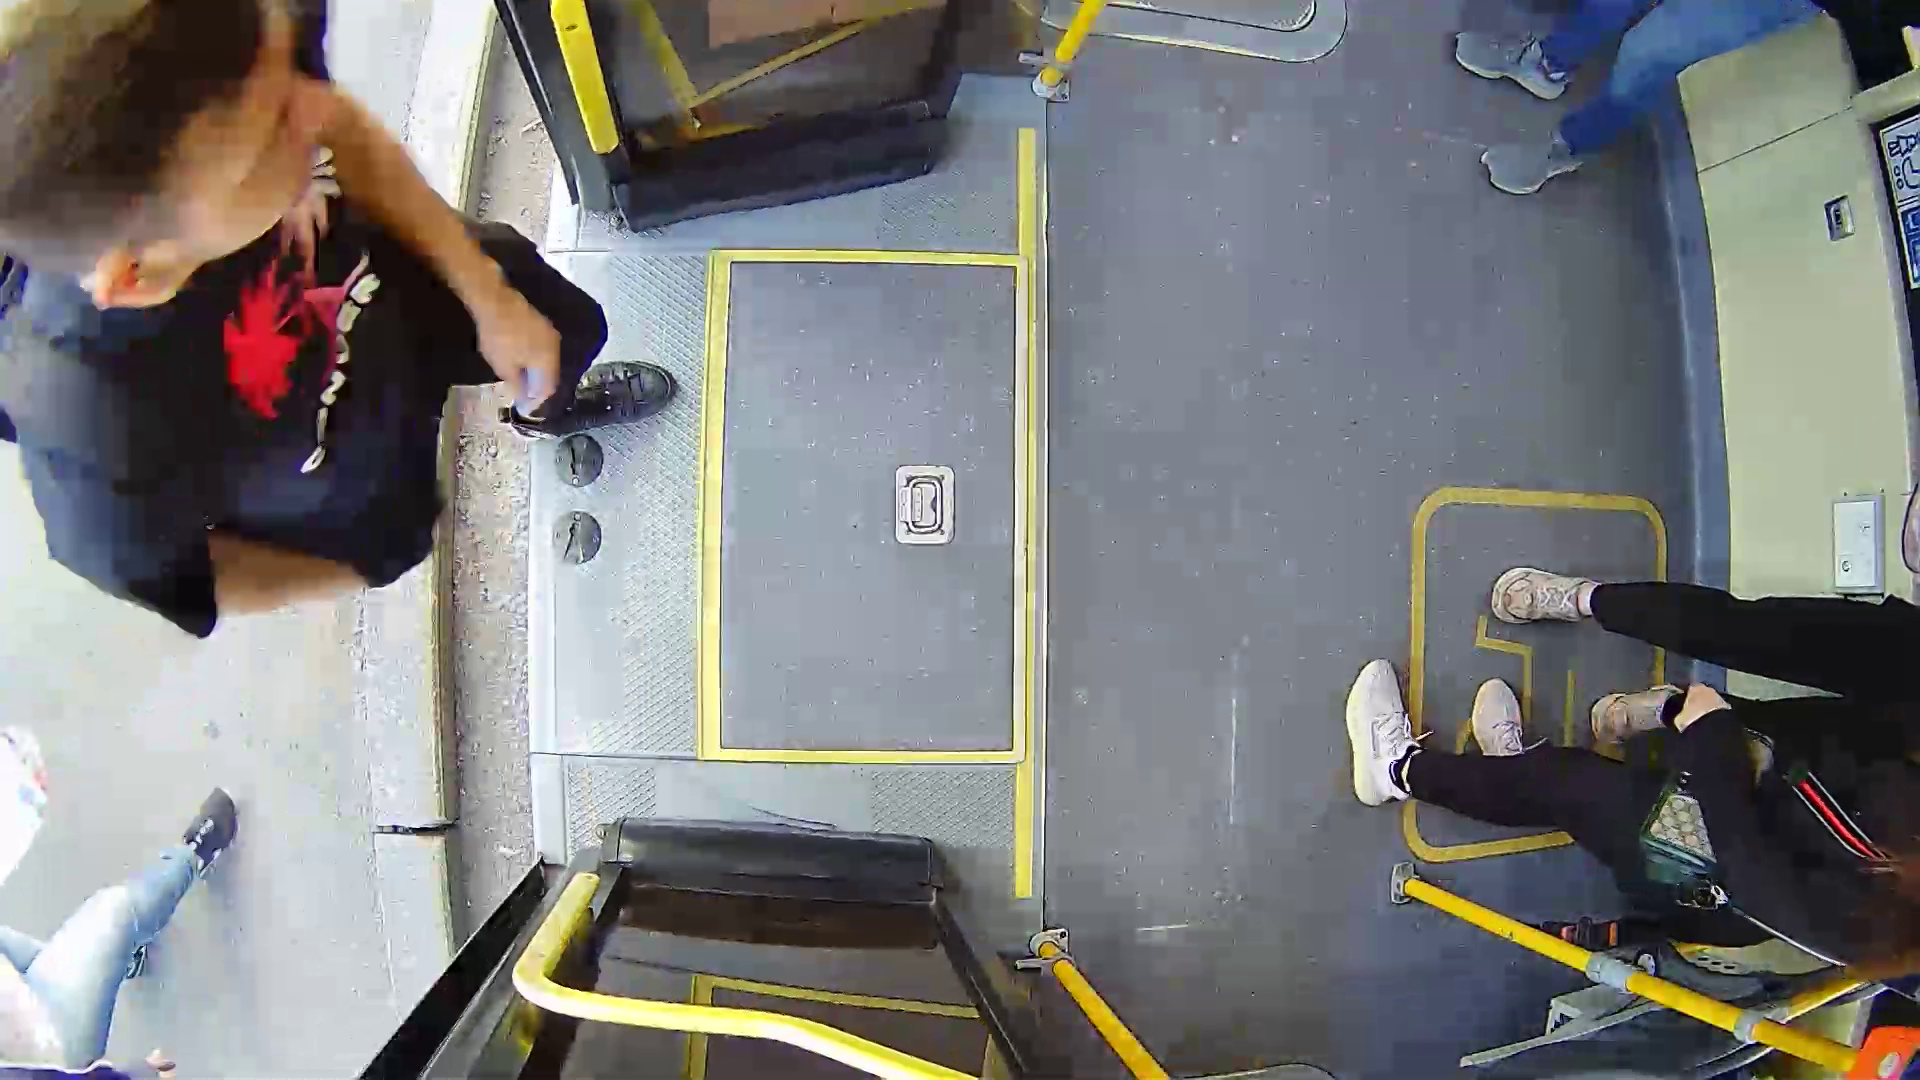person: (15, 13, 691, 650)
